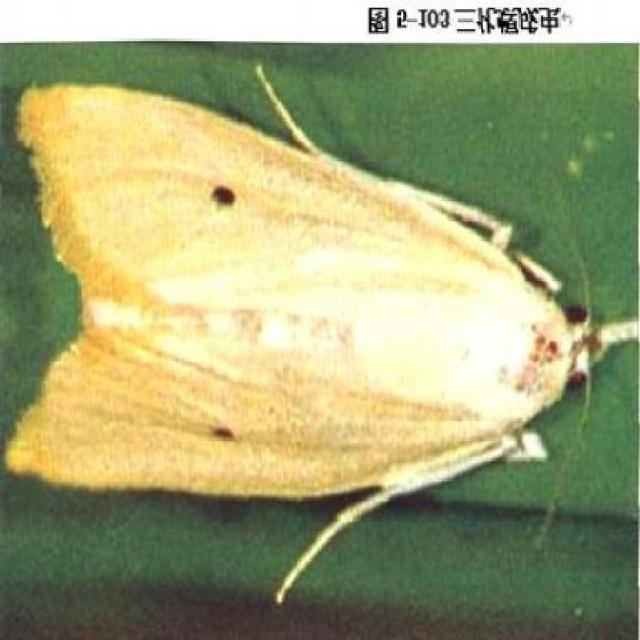stem-borer: (4, 62, 640, 608)
